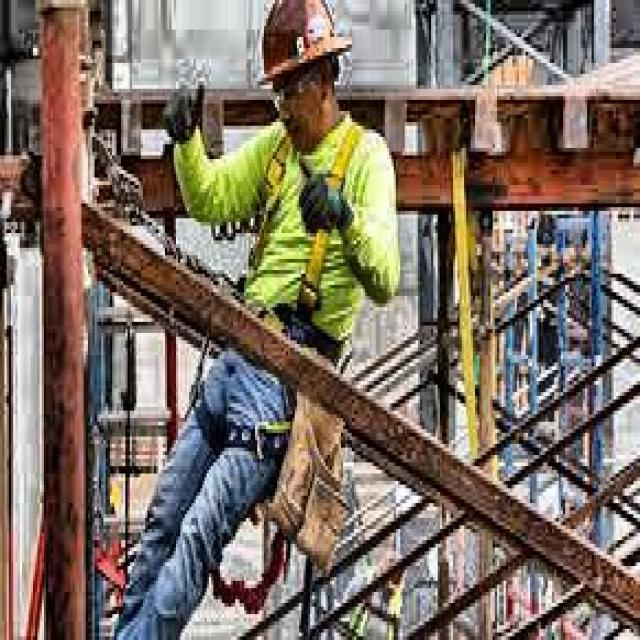belt: (185, 114, 372, 467)
